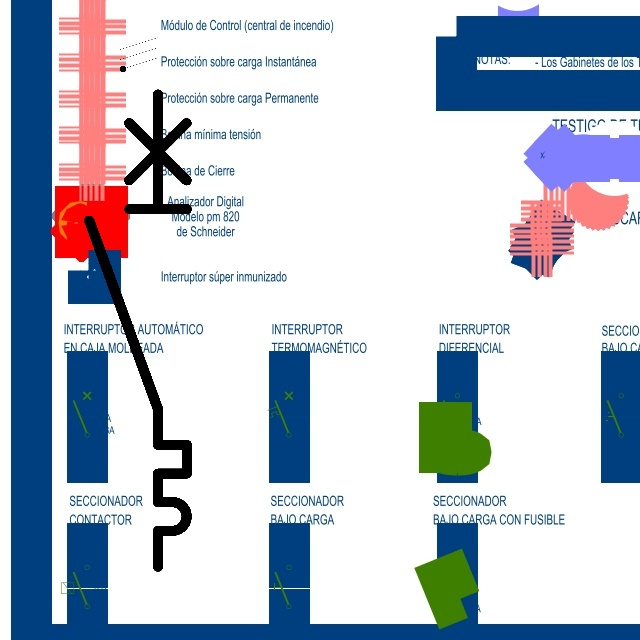interruptor_termomagnetico: (77, 82, 199, 579)
